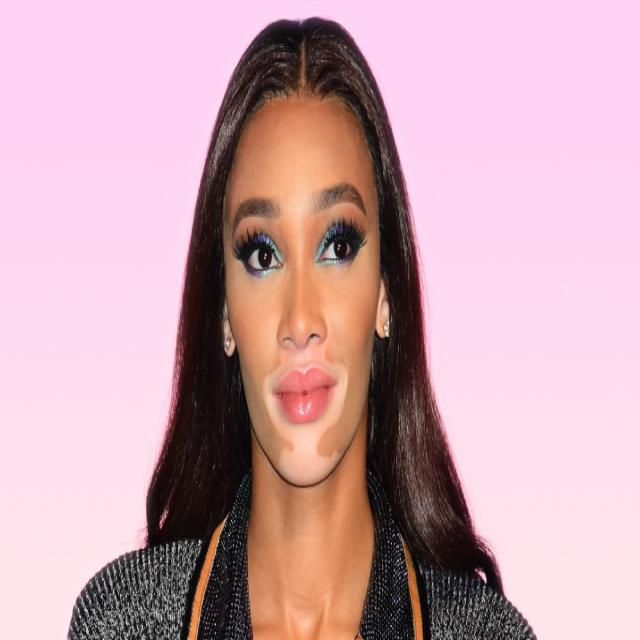vitiligo: (260, 349, 353, 482)
